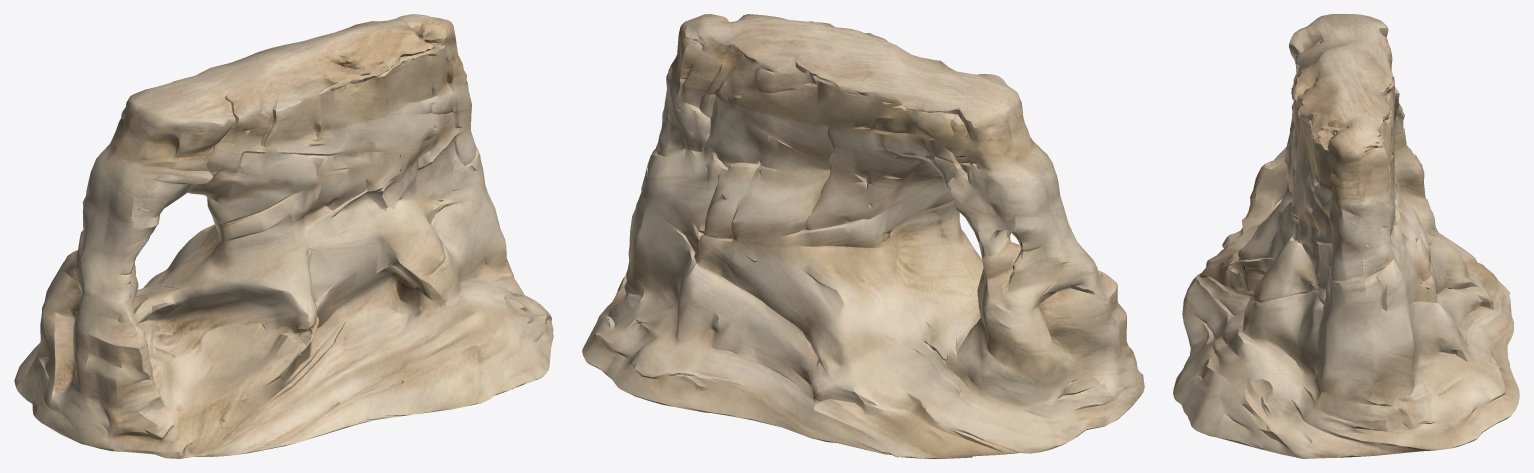
File: isle_stack_b.glb
3 renders of one model, left to right at view 1: azimuth 30°, elevation 25°; view 2: azimuth 150°, elevation 25°; view 3: azimuth 270°, elevation 25°, orthographic. The views are drawn at different scales.
Parts seen in each view (by area): view 1: isle_stack_b; view 2: isle_stack_b; view 3: isle_stack_b.
Boxes of the visible parts, bbox=[...] form: isle_stack_b: bbox=[14, 14, 553, 458]; isle_stack_b: bbox=[582, 14, 1144, 458]; isle_stack_b: bbox=[1173, 14, 1519, 458].
Size of the model in its own units: 1.63 by 1 by 1.07.
Materials: 1 (1 with a texture image).
